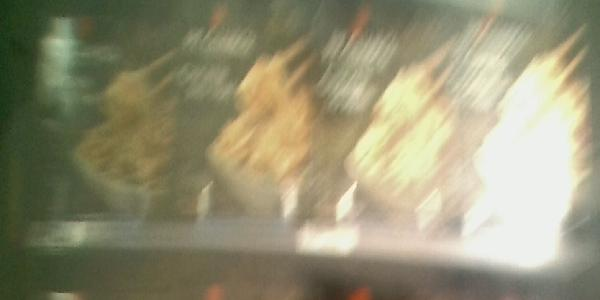pizza1: (318, 1, 462, 237), (24, 8, 178, 217), (180, 1, 315, 223)
